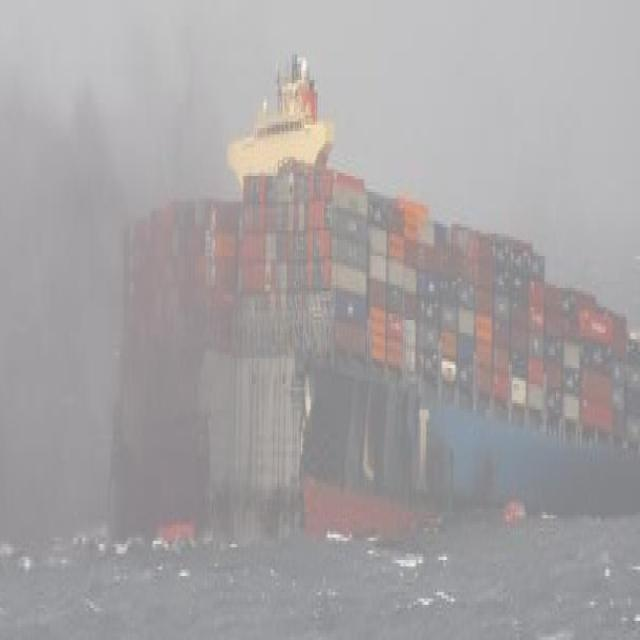cargoship: (103, 42, 640, 526)
